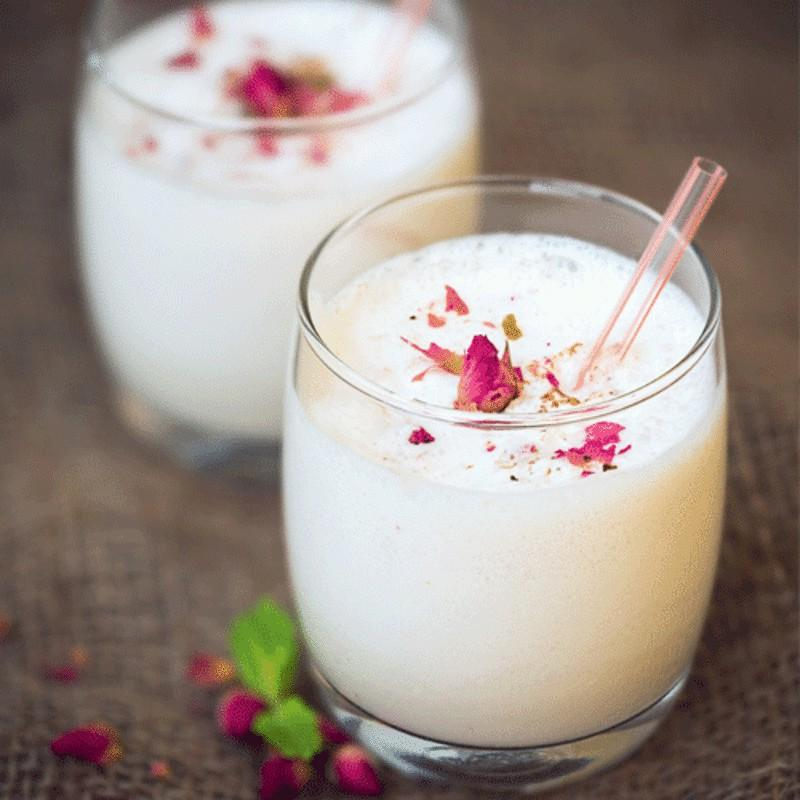Lassi: (283, 231, 728, 747), (74, 0, 479, 438)
